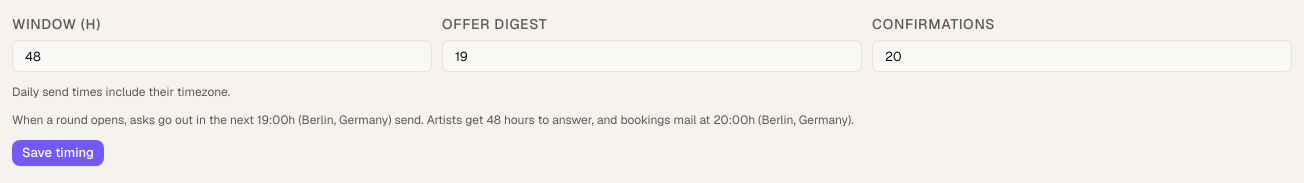
Scenario: TimingStep › drops the narrative mid-edit rather than describing a cleared field
The width and height of the screenshot is (1304, 183).
Clear the number field showing "19" below "Offer digest" at (652, 56), box [442,40,862,72]
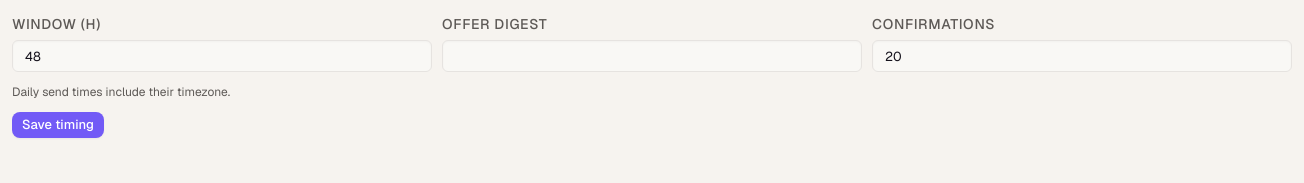
expect the text "When a round opens" is gone: met
